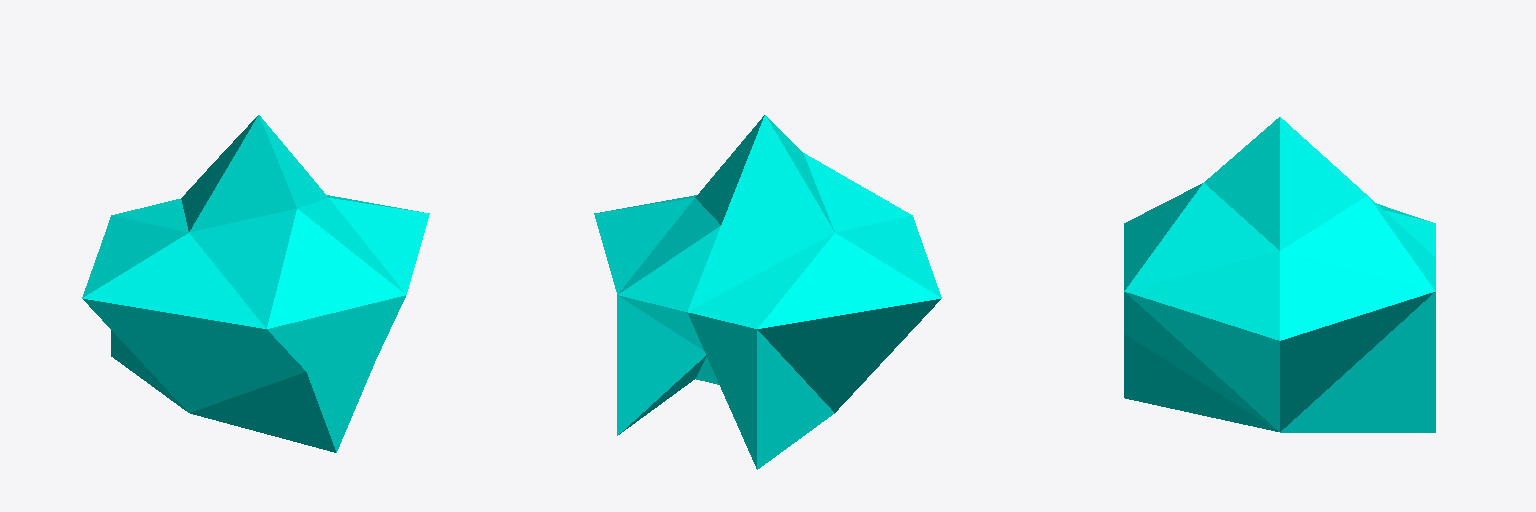
The picture shows the model from 3 angles: view 1: azimuth 30°, elevation 25°; view 2: azimuth 150°, elevation 25°; view 3: azimuth 270°, elevation 25°; orthographic projection.
Parts seen in each view (by area): view 1: Cube; view 2: Cube; view 3: Cube.
Part boxes in pixels (left/top/right/bottom): Cube: left=82, top=115, right=429, bottom=452; Cube: left=594, top=115, right=941, bottom=469; Cube: left=1124, top=117, right=1435, bottom=432.
Bounding box in the file's own units: 3.37 × 2.61 × 2.61.
1 materials, 1 textured.